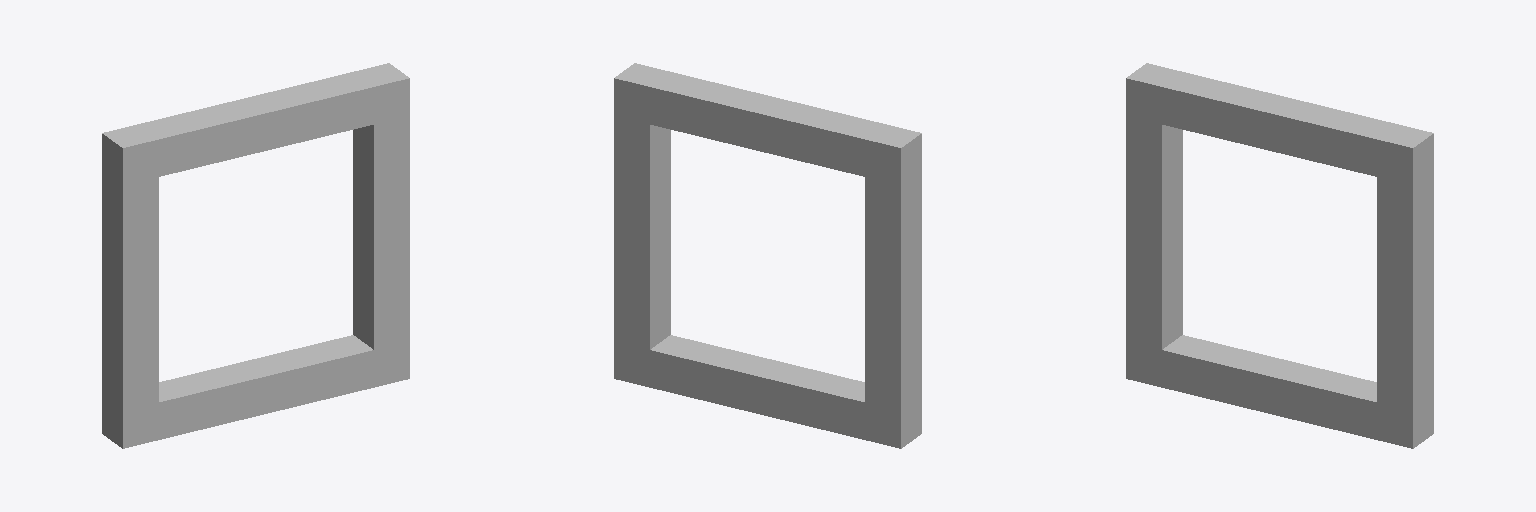
File: BigFaceDoor.obj
3 views of the same model, side by side, from view 1: azimuth 30°, elevation 25°; view 2: azimuth 150°, elevation 25°; view 3: azimuth 330°, elevation 25° (orthographic).
Visible parts, largest first — view 1: BigFaceDoor_Cube.015; view 2: BigFaceDoor_Cube.015; view 3: BigFaceDoor_Cube.015.
Part boxes in pixels (x1,y1,x2,y2): BigFaceDoor_Cube.015: (102,63,409,448); BigFaceDoor_Cube.015: (614,63,921,448); BigFaceDoor_Cube.015: (1126,63,1433,448).
Size of the model in its own units: 2 by 2 by 0.25.